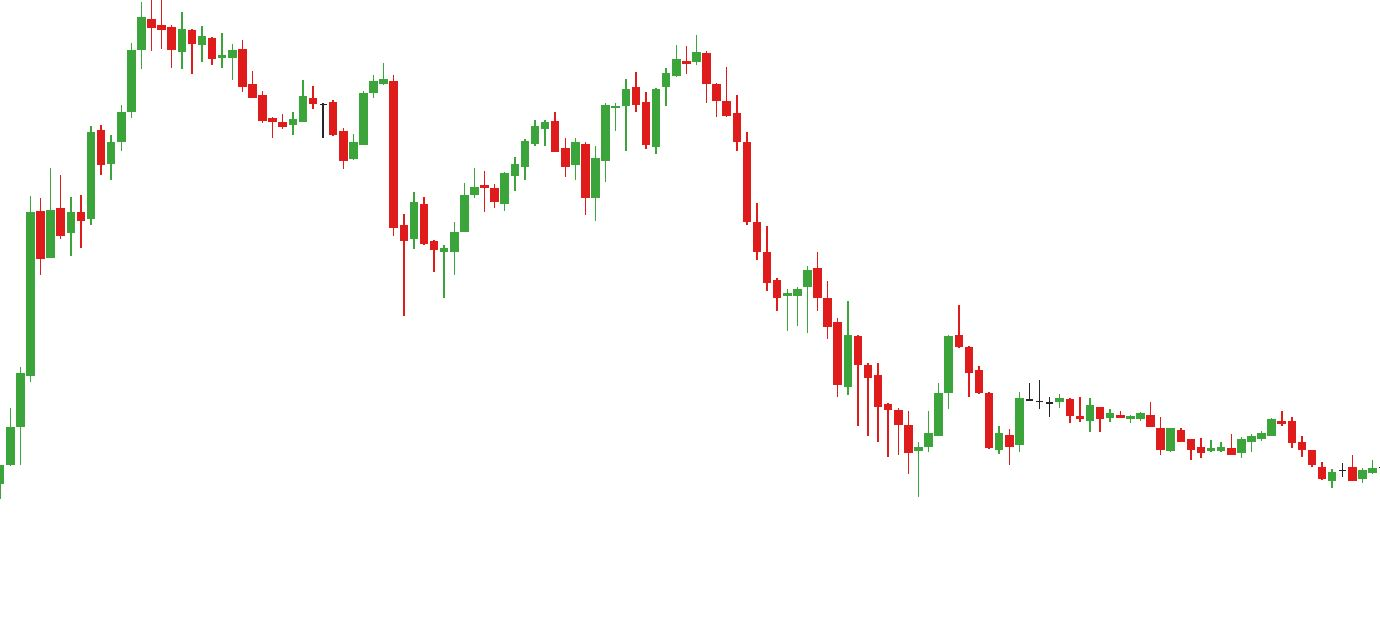sell: (621, 24, 713, 127), (297, 53, 401, 131)
